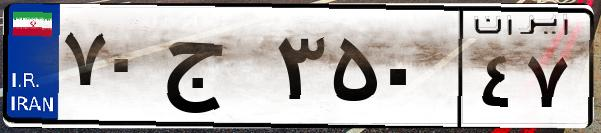0: (385, 28, 445, 110), (110, 28, 158, 98)
3: (270, 28, 330, 110)
4: (475, 38, 525, 113)
5: (330, 28, 385, 110)
7: (57, 26, 110, 100), (525, 38, 570, 115)
ج: (158, 20, 270, 120)
